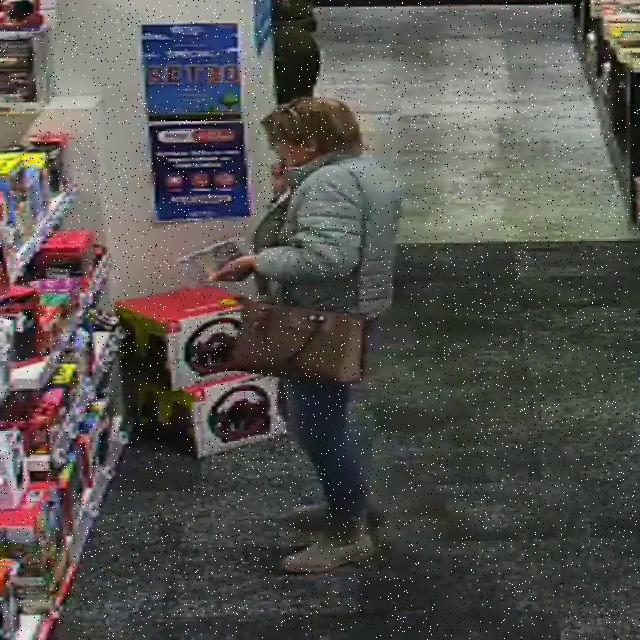article: (178, 238, 248, 286)
bags: (233, 300, 366, 383)
hands: (211, 255, 257, 282), (271, 163, 288, 198)
person: (214, 98, 401, 328)
